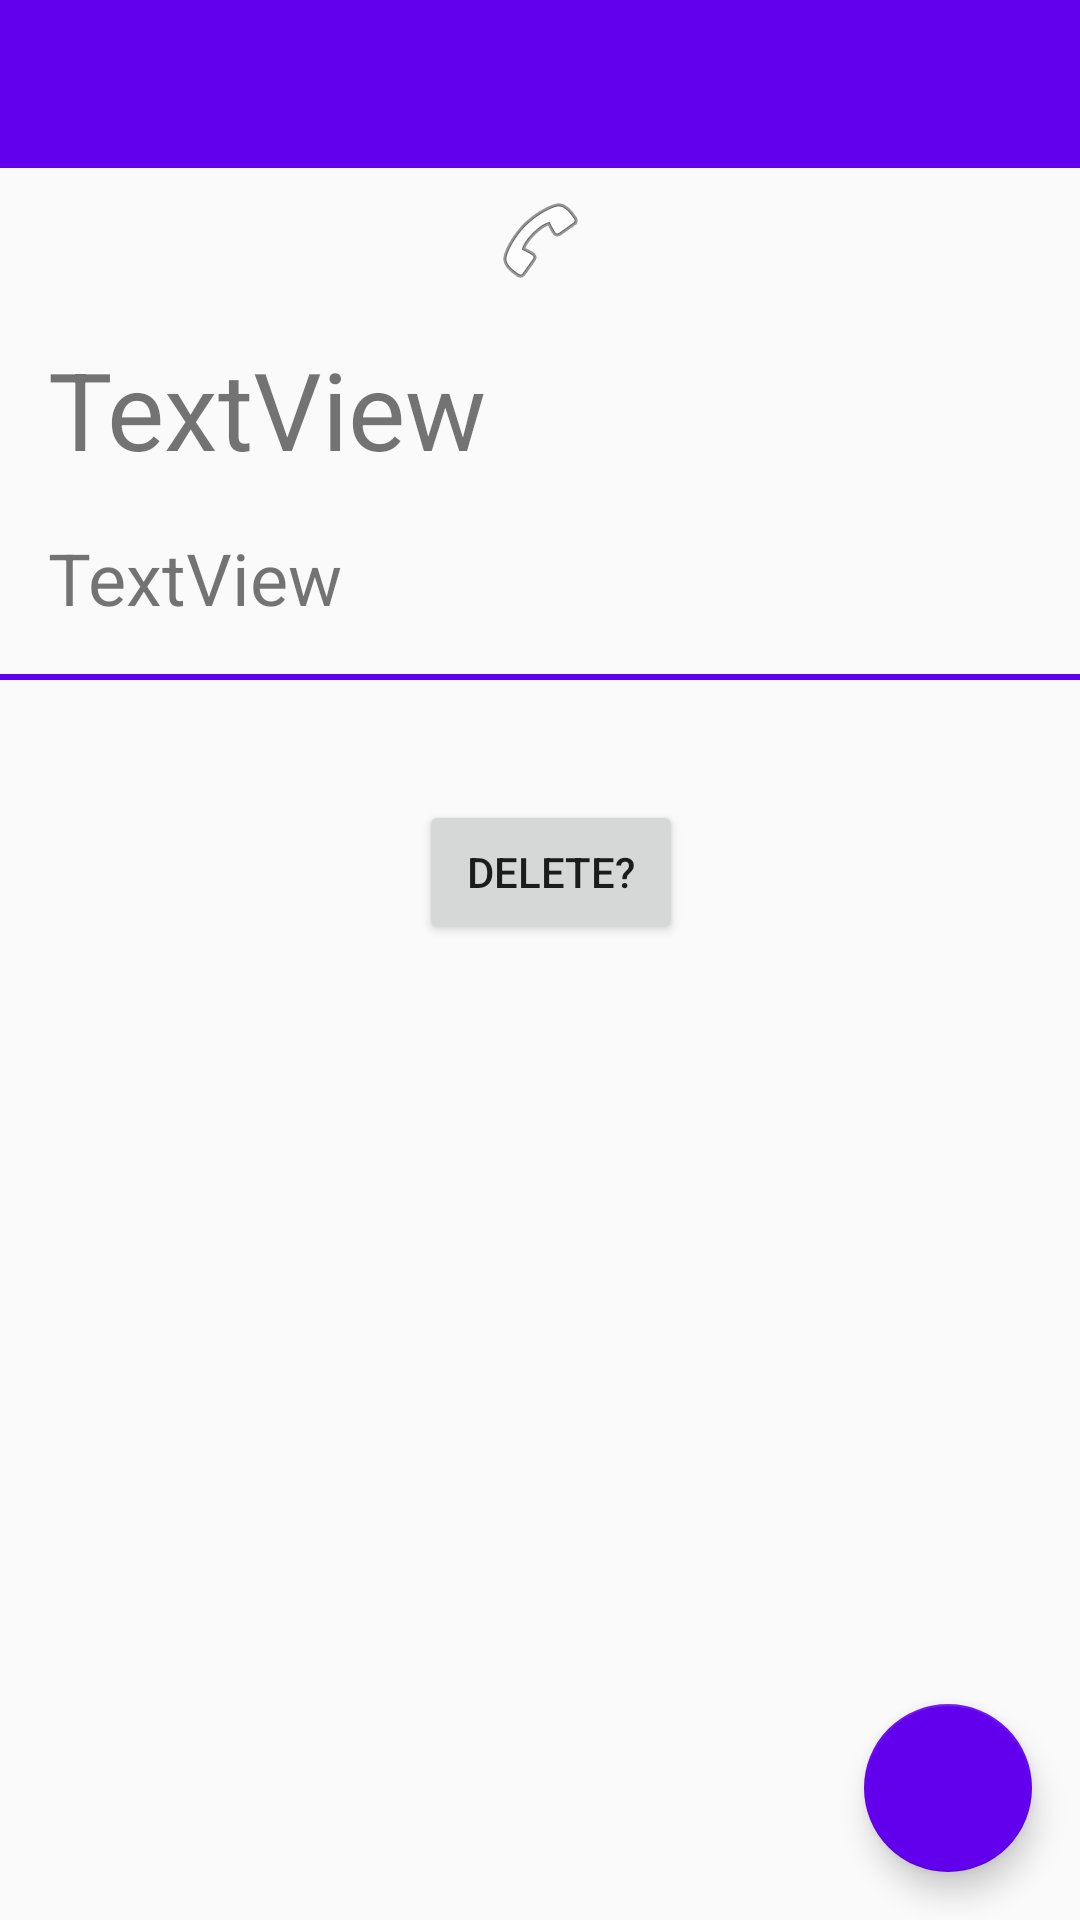

Where to tap for icons on this 1080px x 1920px app screen, as (x,y):
call: (540,240)
